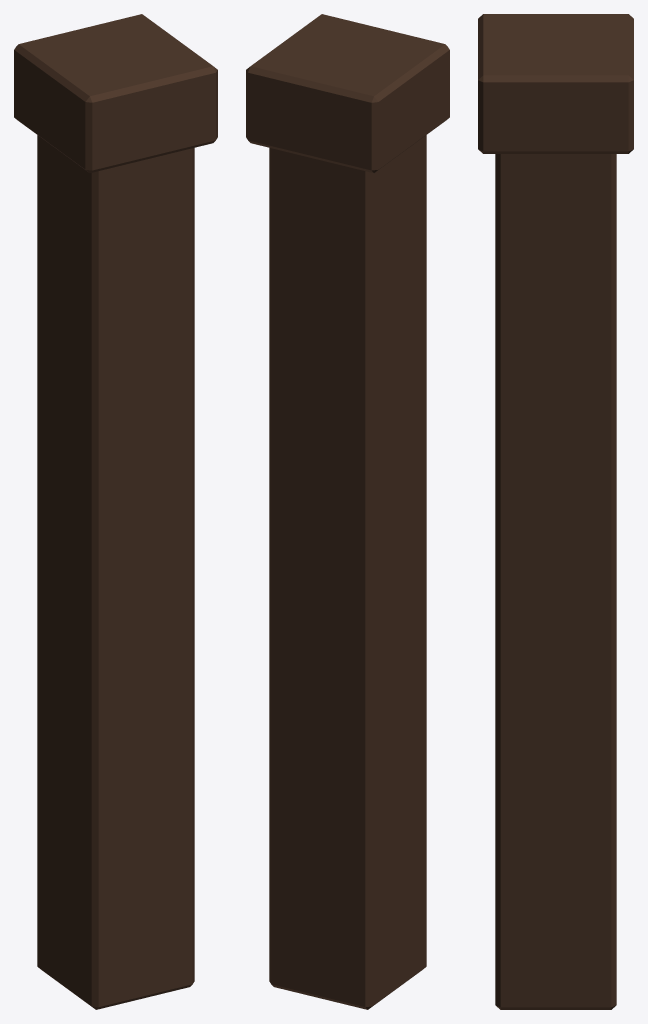
The model's file is corner_timber_h12.fbx.
3 views of the same model, side by side, from view 1: azimuth 30°, elevation 25°; view 2: azimuth 150°, elevation 25°; view 3: azimuth 270°, elevation 25° (orthographic).
Parts seen in each view (by area): view 1: corner_timber_h12; view 2: corner_timber_h12; view 3: corner_timber_h12.
Part boxes in pixels (x1=…): corner_timber_h12: x1=14, y1=14, x2=217, y2=1009; corner_timber_h12: x1=246, y1=14, x2=449, y2=1009; corner_timber_h12: x1=478, y1=14, x2=633, y2=1009.
Bounding box in the file's own units: 180 × 1200 × 180.
